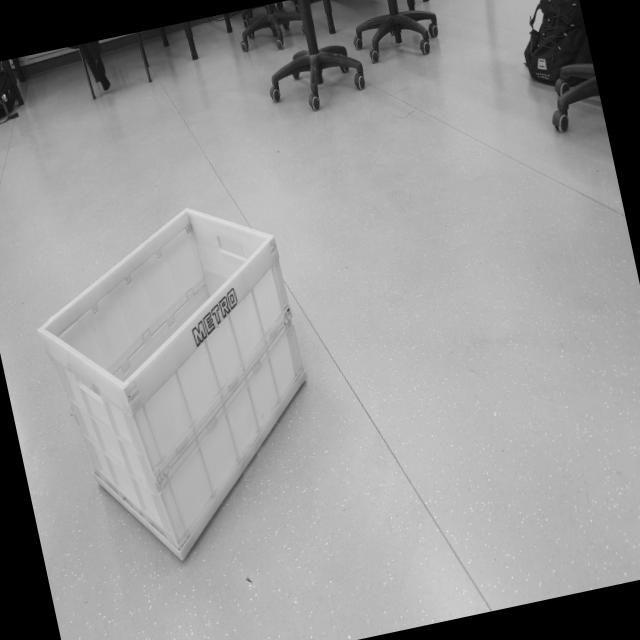box: (12, 179, 342, 586)
